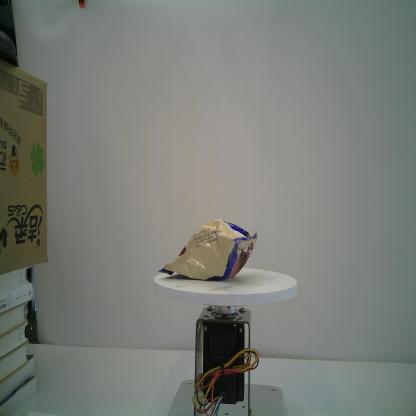Dessert: (156, 218, 256, 286)
